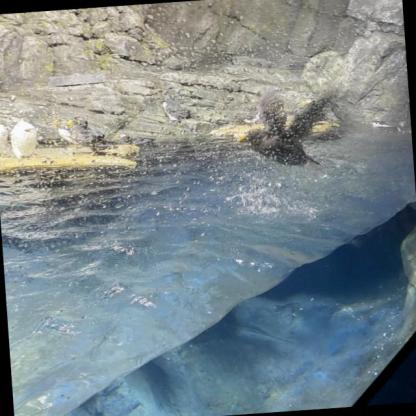puffin: (234, 94, 331, 174), (61, 116, 103, 162), (49, 114, 83, 151), (109, 128, 150, 155), (159, 95, 187, 123)
